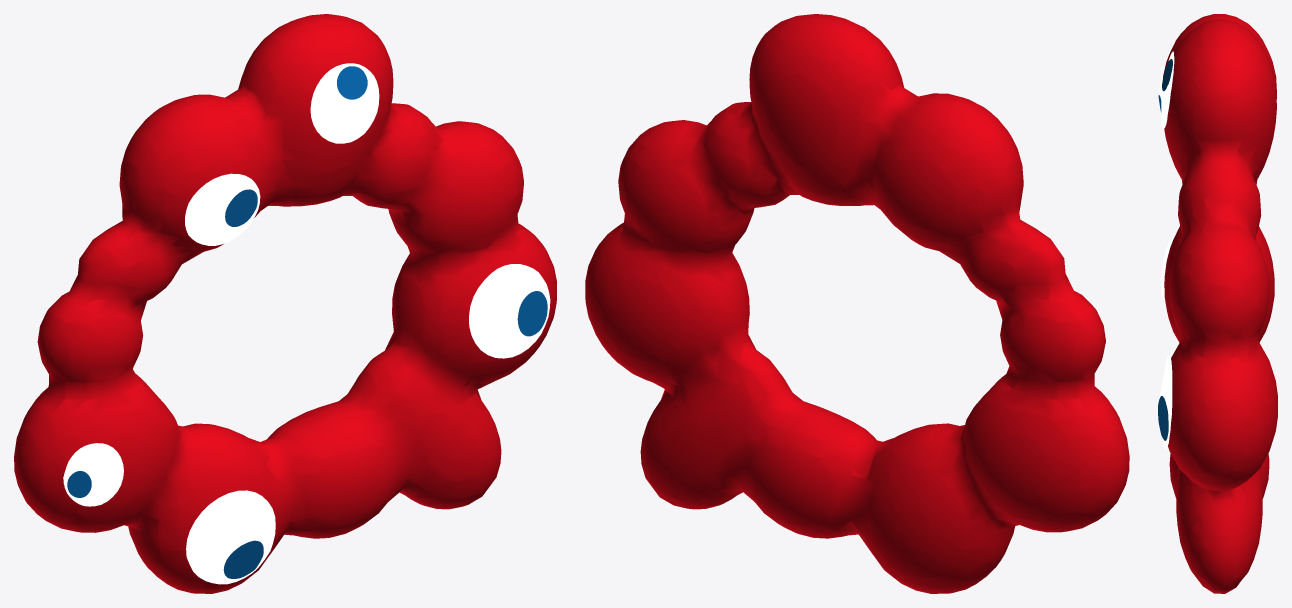
3 renders of one model, left to right at view 1: azimuth 30°, elevation 25°; view 2: azimuth 150°, elevation 25°; view 3: azimuth 270°, elevation 25°, orthographic. The views are drawn at different scales.
Visible parts, largest first — view 1: みゃくリング2, 目.004, 目, 目.001, 目.002, 目.003; view 2: みゃくリング2; view 3: みゃくリング2, 目, 目.001, 目.003.
Part boxes in pixels (x1,y1,x2,y2): みゃくリング2: [14, 14, 556, 593]; 目.004: [186, 490, 275, 584]; 目: [469, 264, 550, 358]; 目.001: [310, 63, 379, 143]; 目.002: [185, 173, 260, 245]; 目.003: [63, 443, 123, 506]; みゃくリング2: [585, 14, 1129, 593]; みゃくリング2: [1163, 14, 1277, 593]; 目: [1158, 355, 1172, 449]; 目.001: [1161, 51, 1174, 128]; 目.003: [1161, 238, 1173, 301].
Bounding box in the file's own units: 2.72 × 2.66 × 0.557.
